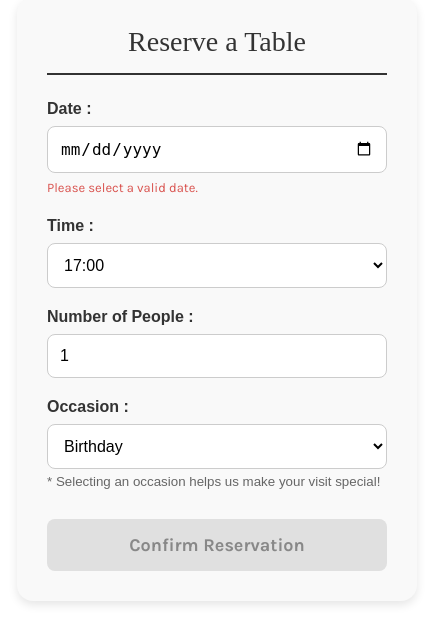
Test: BookingForm Validation Tests › Submit button is enabled when the form is valid
Type "2026-08-30" into the date field labelled "Date :".
click(217, 149); type("2026-08-30")  # box [47, 126, 387, 173]
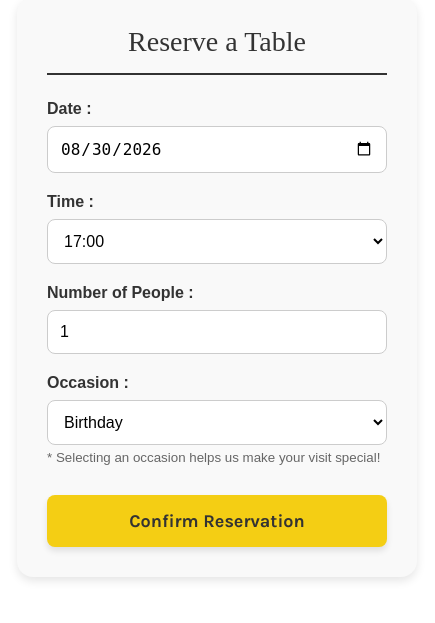
expect the button with aria-label "submit reservation" is enabled: met, box [47, 495, 387, 547]
